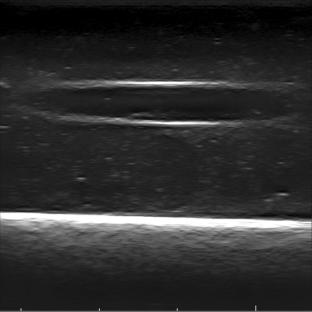vessel: (38, 80, 282, 126)
